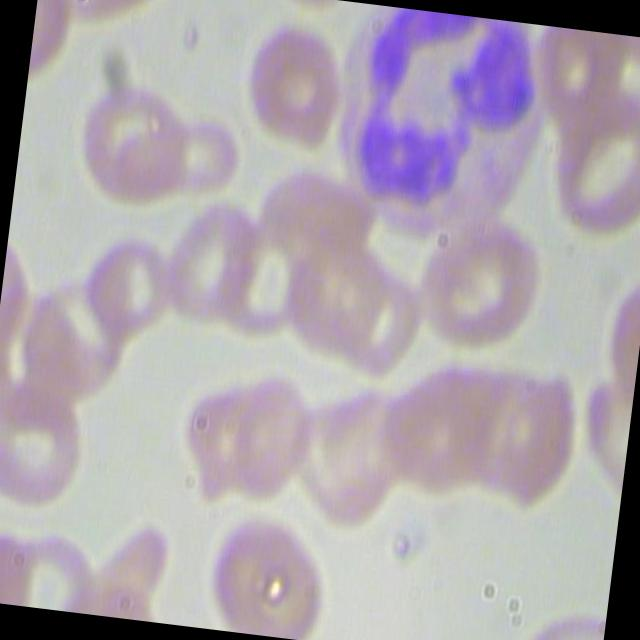WBC: (324, 1, 554, 252)
